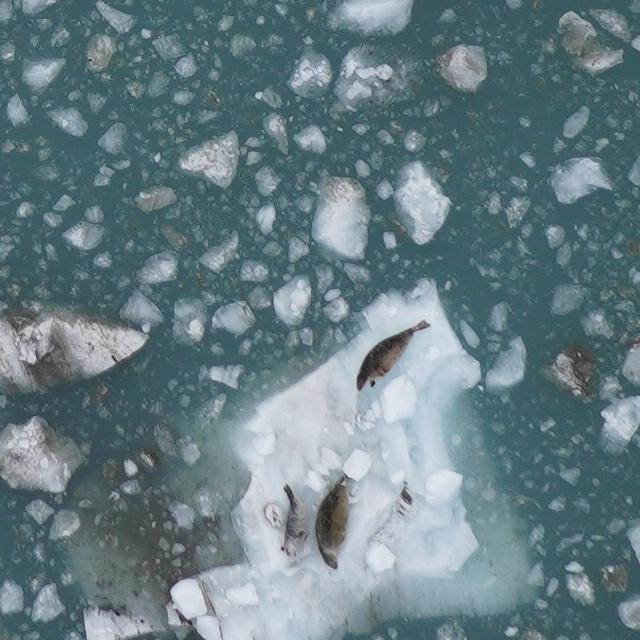seal: (353, 317, 434, 392), (313, 470, 356, 572), (277, 480, 312, 564)
